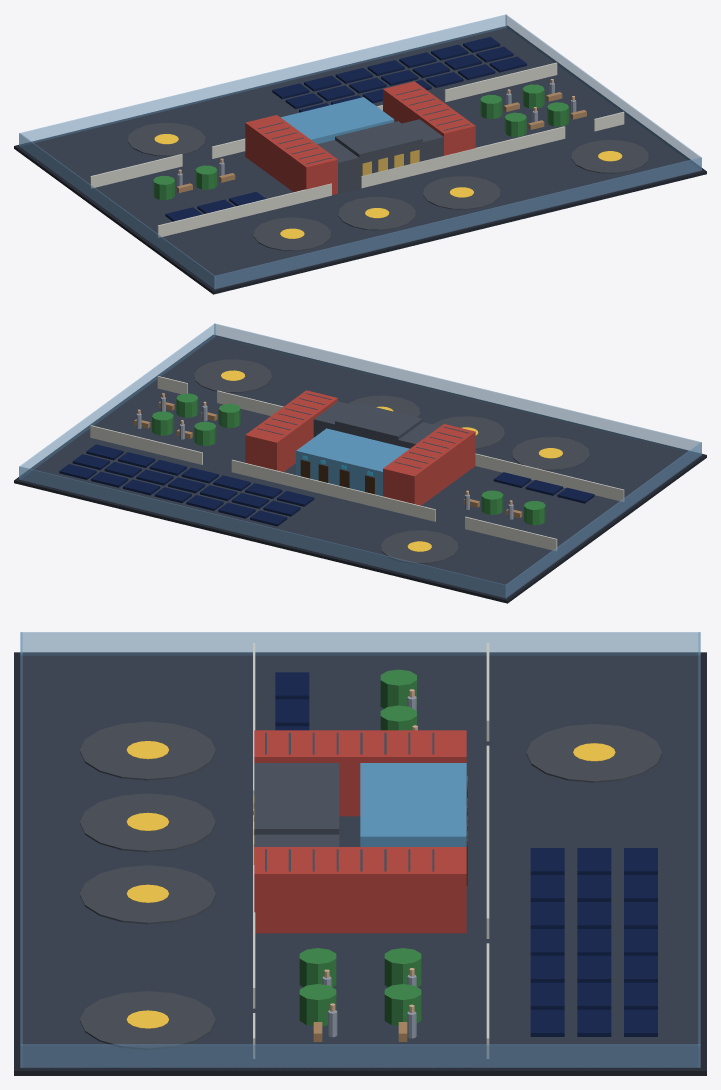
3 views of the same model, one above another, from view 1: azimuth 30°, elevation 25°; view 2: azimuth 150°, elevation 25°; view 3: azimuth 270°, elevation 25° (orthographic). The views are drawn at different scales.
Parts seen in each view (by area): view 1: LR_floor_carpet, LR_glass, LR_pad, LR_wall, LR_stair, LR_solar, LR_slab, LR_core, LR_plant, LR_wash, LR_pad_mark, LR_table (+1 smaller); view 2: LR_floor_carpet, LR_glass, LR_solar, LR_stair, LR_wall, LR_pad, LR_slab, LR_core, LR_wash, LR_plant, LR_pad_mark, LR_door_closed (+1 smaller); view 3: LR_floor_carpet, LR_glass, LR_pad, LR_stair, LR_solar, LR_slab, LR_wash, LR_core, LR_plant, LR_pad_mark, LR_wall.
Boxes of the visible parts, <box> form: LR_floor_carpet: <box>19,27,701,289</box>; LR_glass: <box>19,14,701,289</box>; LR_pad: <box>128,123,648,251</box>; LR_wall: <box>90,62,624,237</box>; LR_stair: <box>245,81,475,194</box>; LR_solar: <box>165,37,526,221</box>; LR_slab: <box>14,25,706,294</box>; LR_core: <box>258,88,469,193</box>; LR_plant: <box>153,84,568,200</box>; LR_wash: <box>281,97,394,143</box>; LR_pad_mark: <box>154,134,622,238</box>; LR_table: <box>176,92,586,192</box>; LR_floor_carpet: <box>19,336,701,598</box>; LR_glass: <box>19,323,701,598</box>; LR_solar: <box>59,444,594,526</box>; LR_stair: <box>245,390,475,505</box>; LR_wall: <box>90,376,624,551</box>; LR_pad: <box>194,359,589,563</box>; LR_slab: <box>14,334,706,603</box>; LR_core: <box>258,393,468,468</box>; LR_wash: <box>296,428,409,496</box>; LR_plant: <box>152,393,545,525</box>; LR_pad_mark: <box>221,370,562,551</box>; LR_door_closed: <box>300,460,374,494</box>; LR_floor_carpet: <box>20,654,700,1068</box>; LR_glass: <box>20,632,700,1067</box>; LR_pad: <box>80,721,662,1049</box>; LR_stair: <box>254,730,466,933</box>; LR_solar: <box>275,672,657,1036</box>; LR_slab: <box>14,652,706,1075</box>; LR_wash: <box>360,763,466,846</box>; LR_core: <box>254,732,434,871</box>; LR_plant: <box>299,669,421,1025</box>; LR_pad_mark: <box>126,741,615,1028</box>; LR_wall: <box>253,643,489,1058</box>.
Size of the model in its own units: 46.6 by 3.37 by 32.6.
